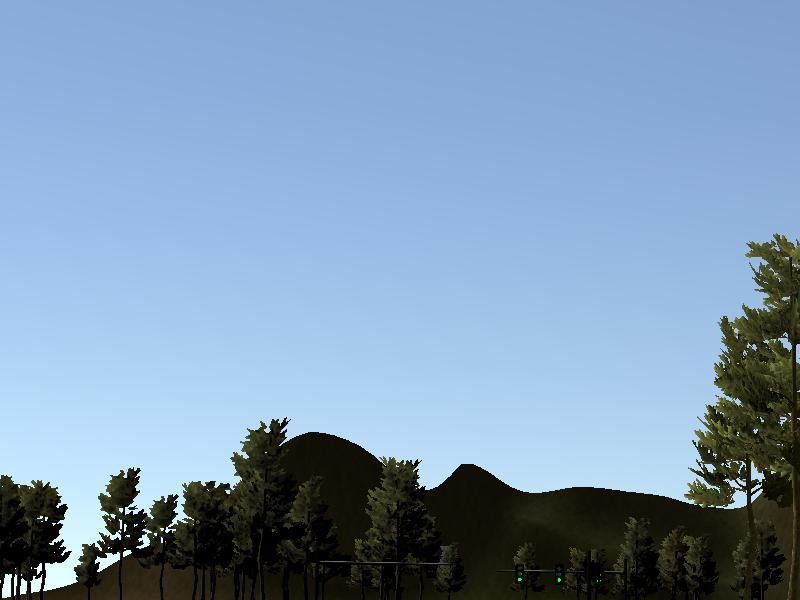Green: (515, 564, 525, 586), (554, 564, 564, 586)
